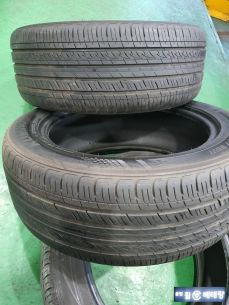middle_condition: (6, 161, 226, 266), (21, 22, 203, 108)
